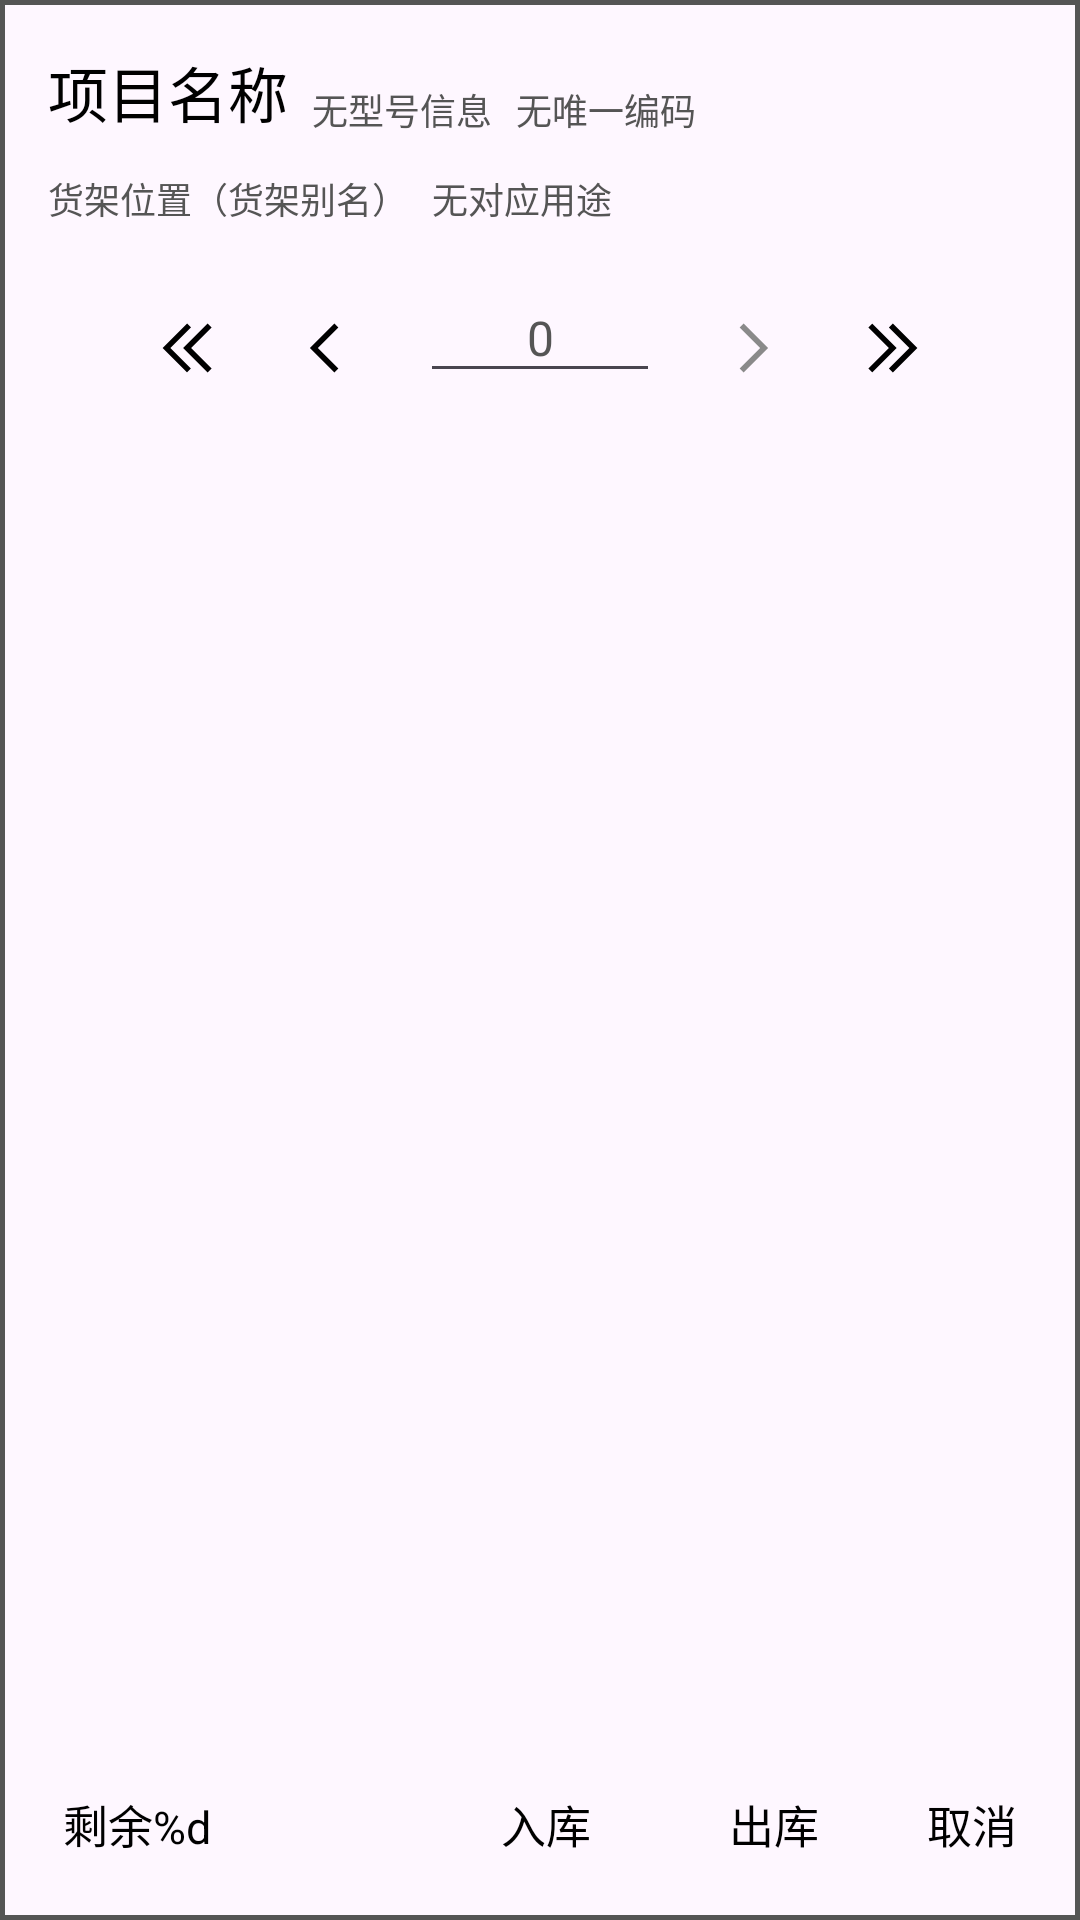

Locate icon controls on the screen. Image size 1080w x 1920h, boxes as (x1, y1, x2, y2).
arrow left: (310, 323, 339, 373)
arrow right: (740, 323, 768, 373)
double arro right: (868, 323, 917, 373)
double arrow left: (163, 323, 212, 373)
